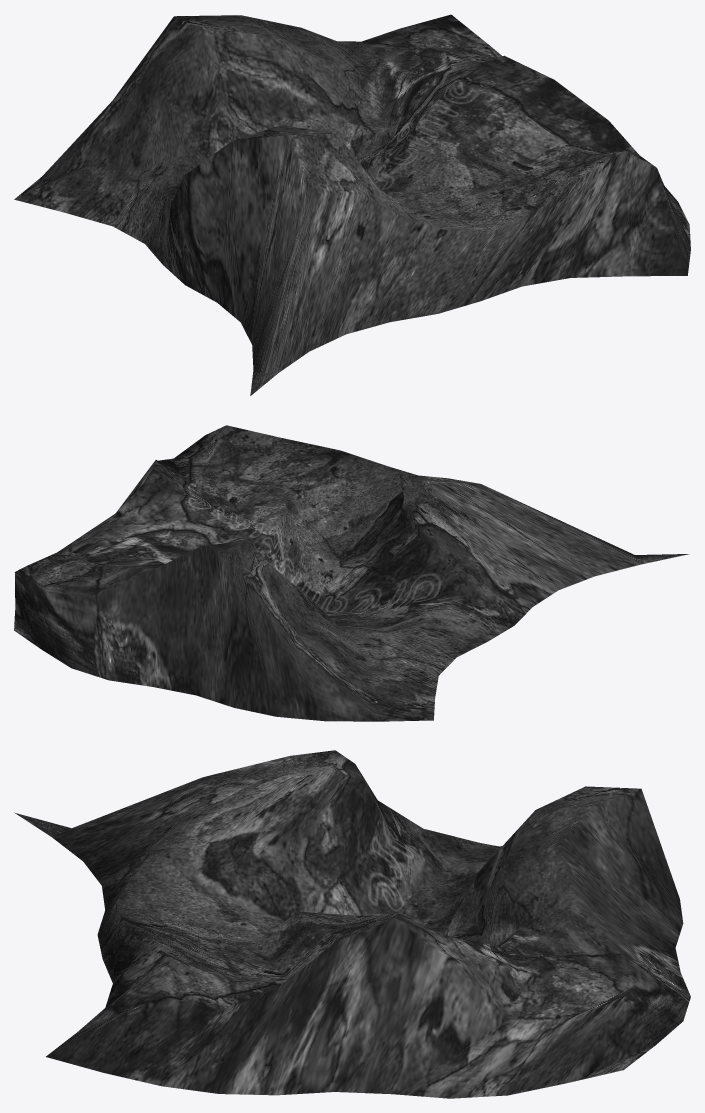
File: mdl_concreteMush.obj
3 renders of one model, top to bottom at view 1: azimuth 30°, elevation 25°; view 2: azimuth 150°, elevation 25°; view 3: azimuth 270°, elevation 25°, orthographic. The views are drawn at different scales.
Parts seen in each view (by area): view 1: Plane001; view 2: Plane001; view 3: Plane001.
Boxes of the visible parts, x1=… form: Plane001: x1=14, y1=14, x2=690, y2=395; Plane001: x1=14, y1=425, x2=689, y2=721; Plane001: x1=14, y1=750, x2=690, y2=1098.
Size of the model in its own units: 1.27 by 0.3003 by 1.27.
